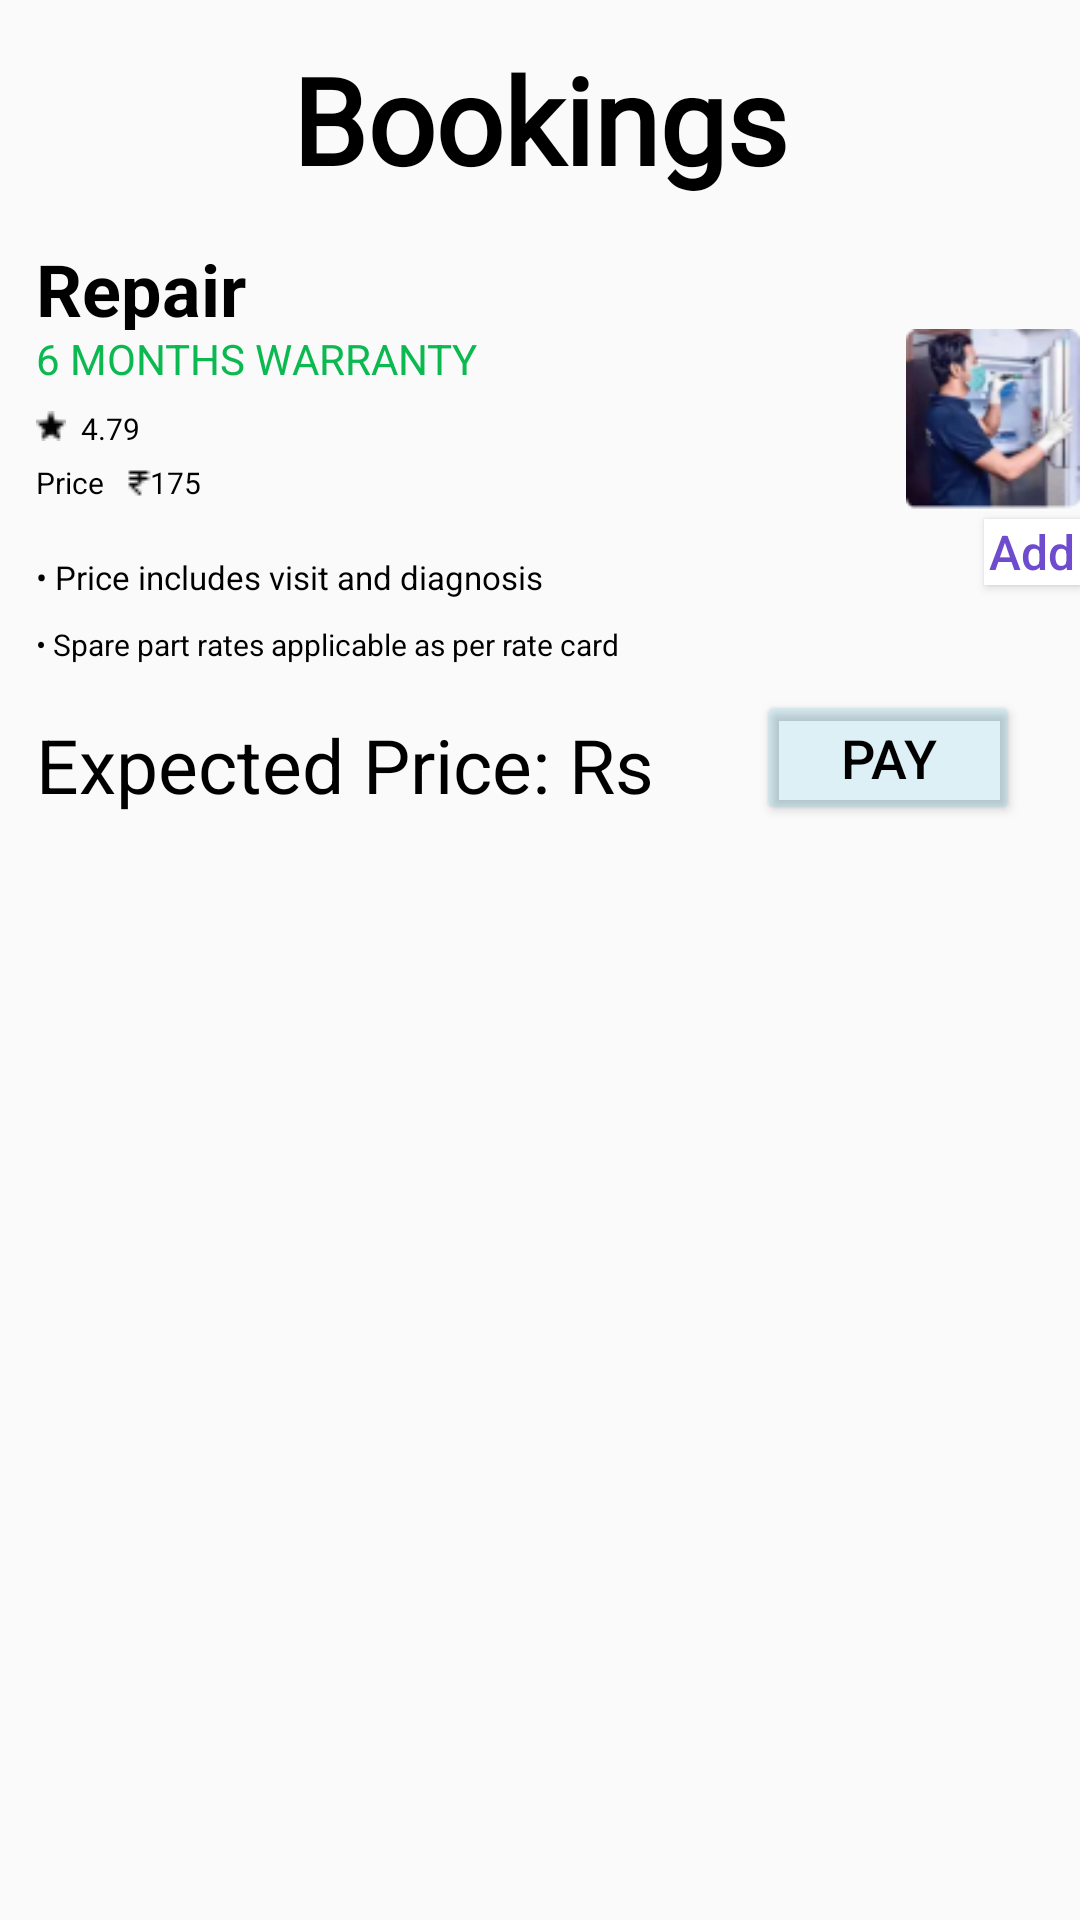

Locate icon controls on the screen. Image size 1080px×1920px, boxes as (x1, y1, x2, y2).
rupee ac: (128, 470, 156, 496)
